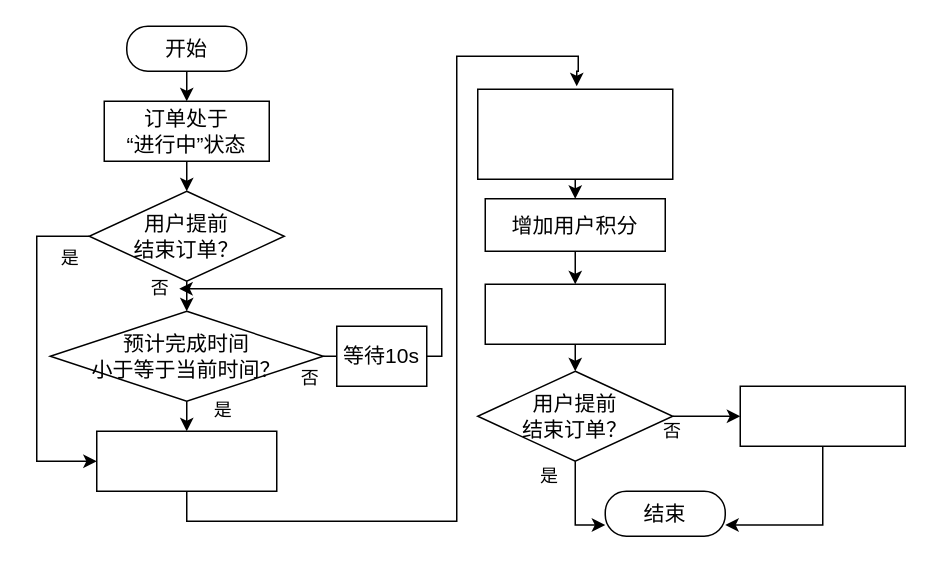
Some shapes in this 932 by 564 pixel diagram are drawn without their labels. The centre of each missing label's shape, as x and y in pixels:
"设置关联机器 状态为“空闲”" goes at (x=186, y=460).
"设置订单完成时间为当前，状态为 已完成" goes at (x=574, y=133).
"通知机器空闲 订阅用户" goes at (x=574, y=313).
"通知订单用户" goes at (x=822, y=415).
